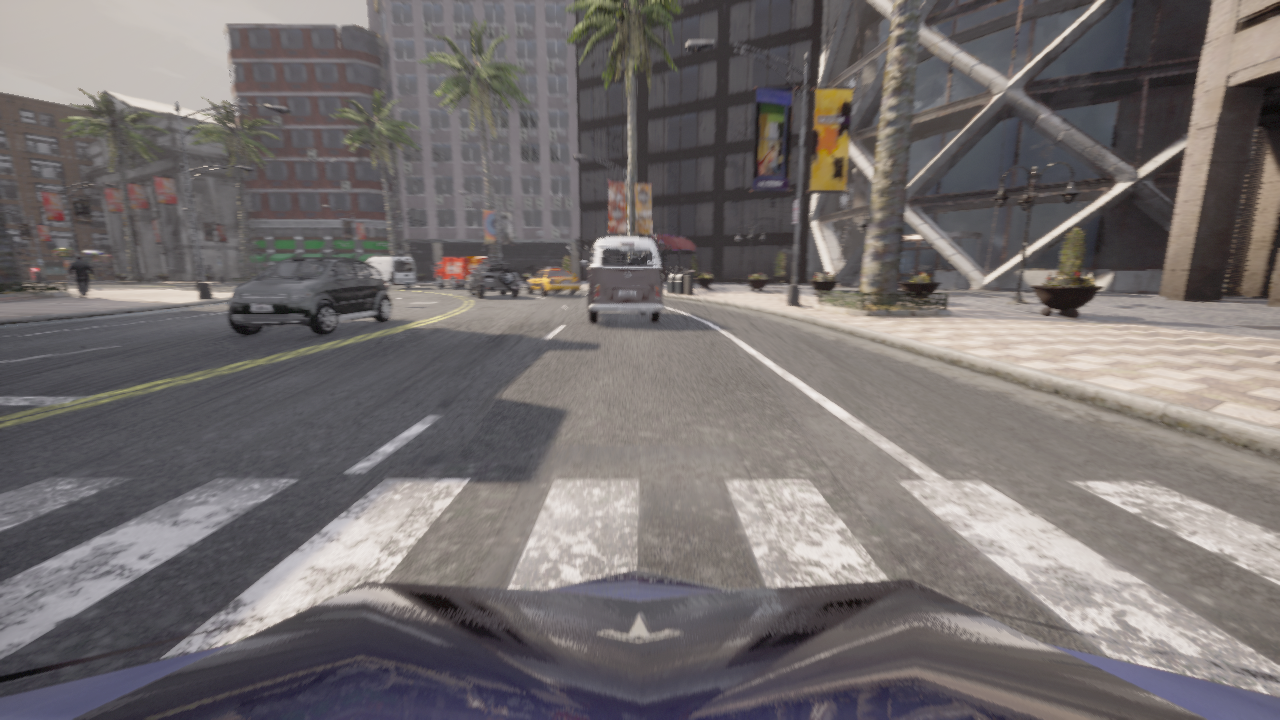cyclist: (0, 569, 1279, 719), (228, 257, 392, 335), (582, 237, 663, 323), (468, 260, 519, 297), (431, 257, 487, 288), (366, 255, 415, 288), (527, 267, 579, 295)
pedestrian: (68, 256, 94, 298)
